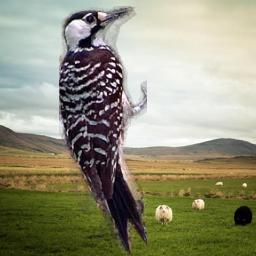Woodpecker: (59, 6, 147, 254)
